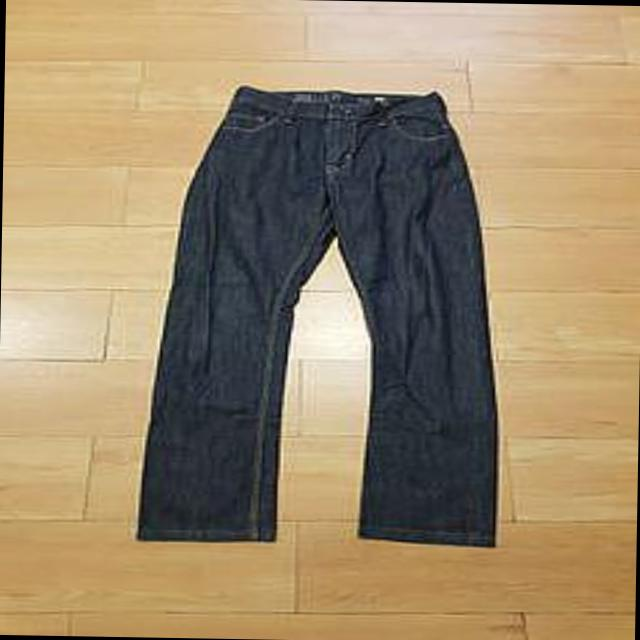TROUSER: (125, 79, 520, 550)
